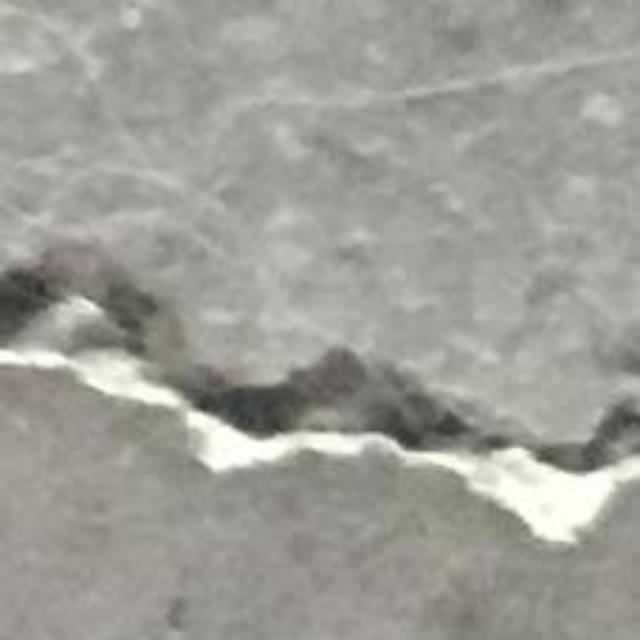crack: (0, 249, 639, 544)
